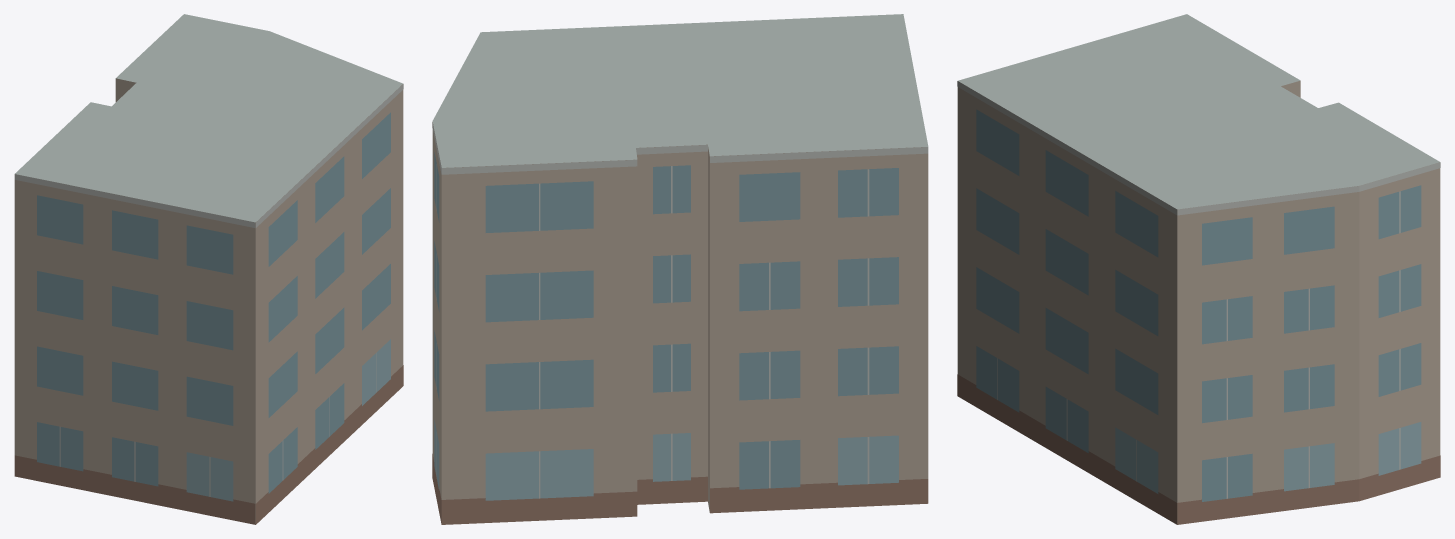
The model's file is survey-upis-32656645.glb.
3 renders of one model, left to right at view 1: azimuth 30°, elevation 25°; view 2: azimuth 150°, elevation 25°; view 3: azimuth 270°, elevation 25°, orthographic. The views are drawn at different scales.
Visible parts, largest first — view 1: survey-upis-32656645.tmp; view 2: survey-upis-32656645.tmp; view 3: survey-upis-32656645.tmp.
Part boxes in pixels (x1=…): survey-upis-32656645.tmp: x1=14, y1=14, x2=403, y2=524; survey-upis-32656645.tmp: x1=432, y1=14, x2=928, y2=524; survey-upis-32656645.tmp: x1=957, y1=14, x2=1440, y2=524.
Size of the model in its own units: 17 by 12.78 by 17.74.
